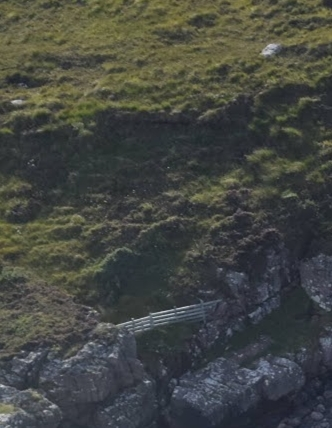cuboid: (113, 293, 221, 337)
